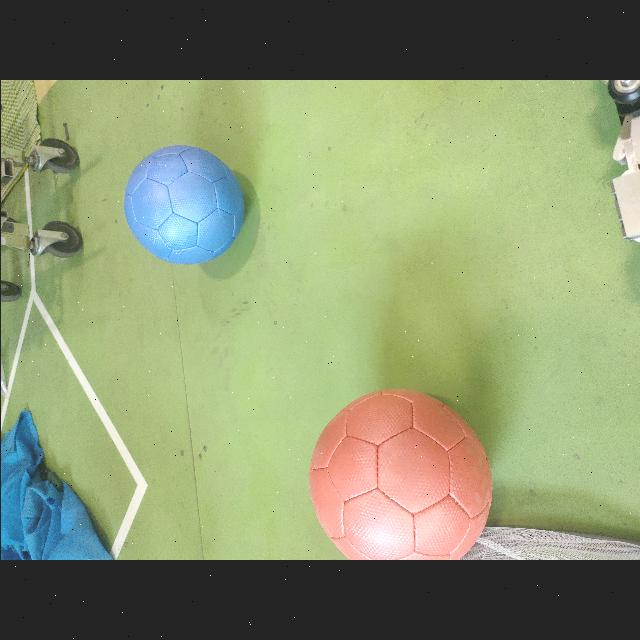B: (123, 144, 250, 266)
R: (309, 388, 494, 560)
